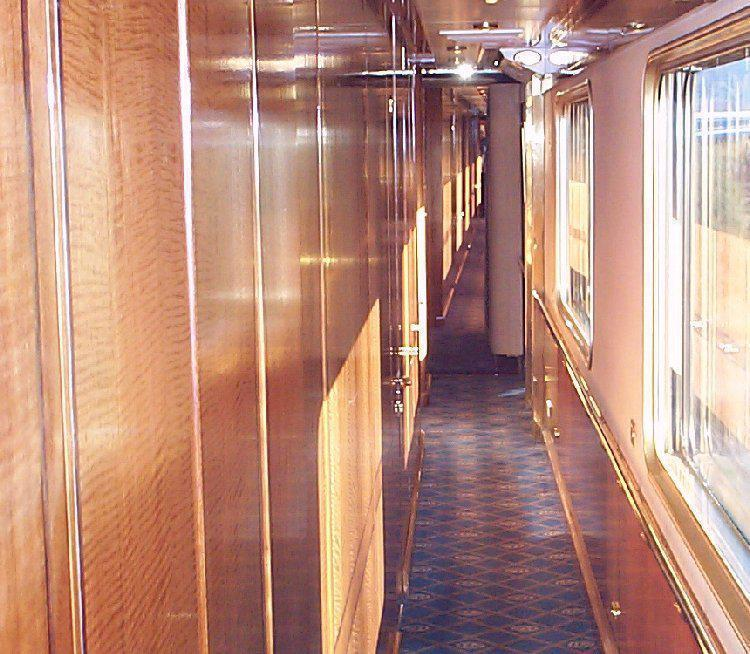Puerta: (374, 89, 409, 580)
Ventana: (648, 49, 744, 599), (542, 92, 598, 362)
